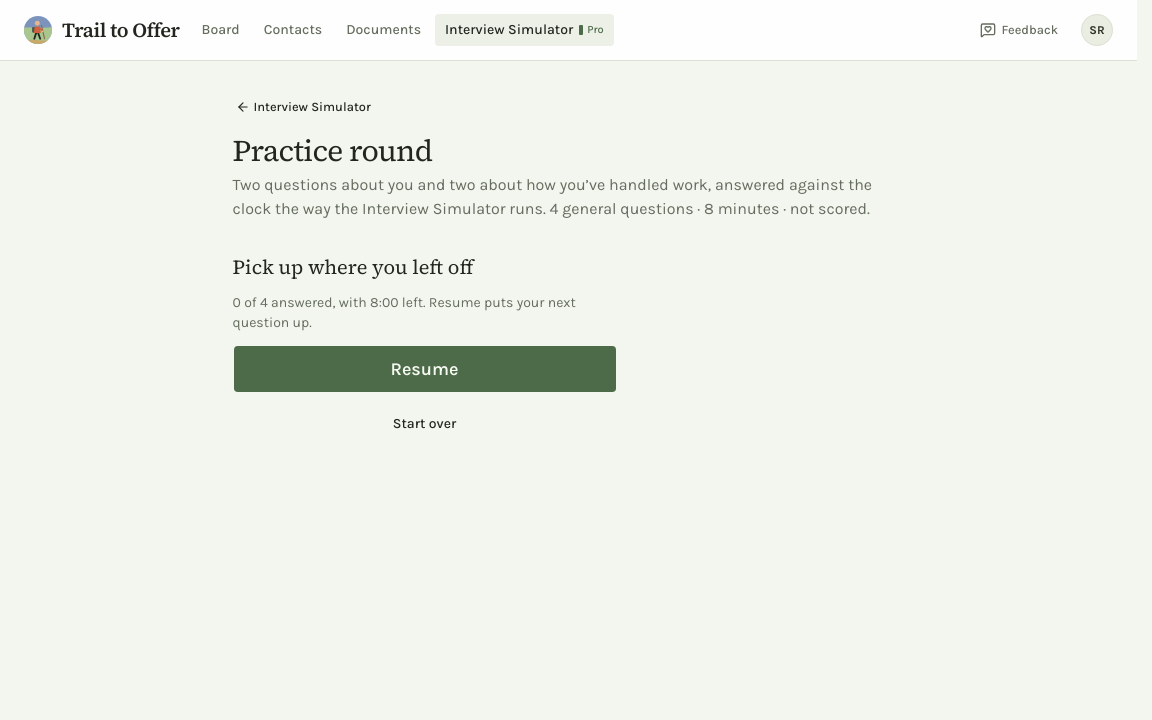
Test: taking a Practice round (practice round ticket 03) › PR-U6c: a microphone that fails mid-round offers leaving, back to where Resume waits (practice feedback ticket 05)
Click the button "Resume" at (424, 369), box [232,345,616,393]
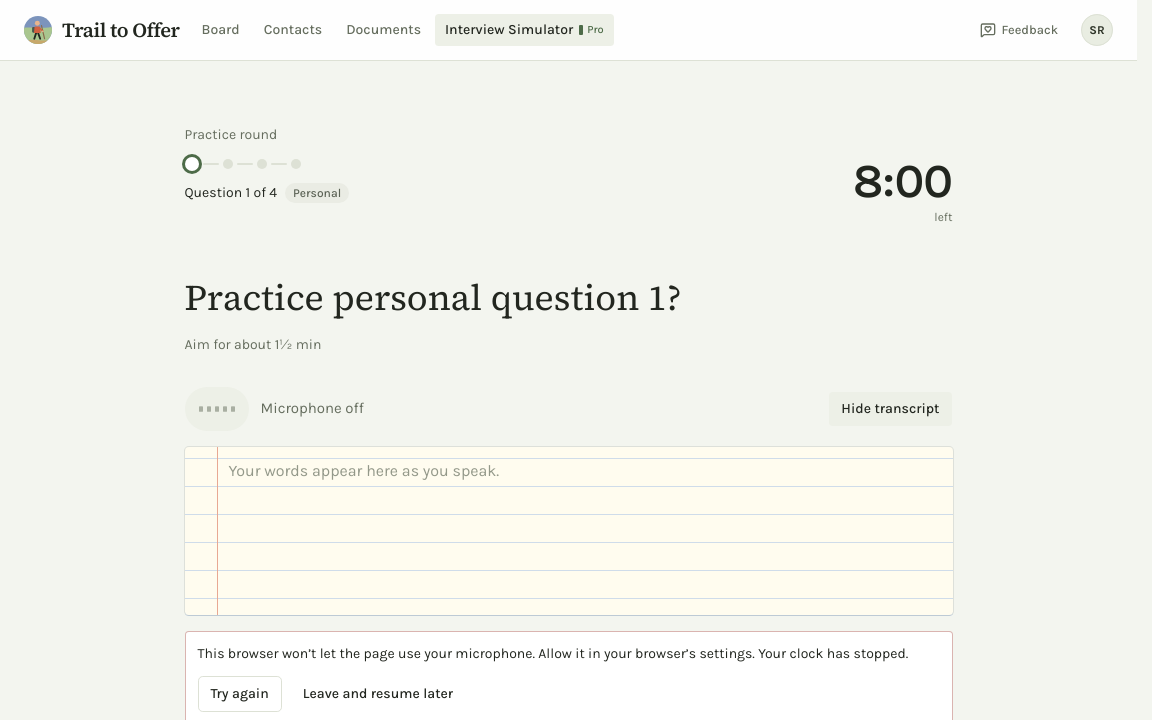
Click the button "Leave and resume later" at (378, 694), box [290,676,466,712]
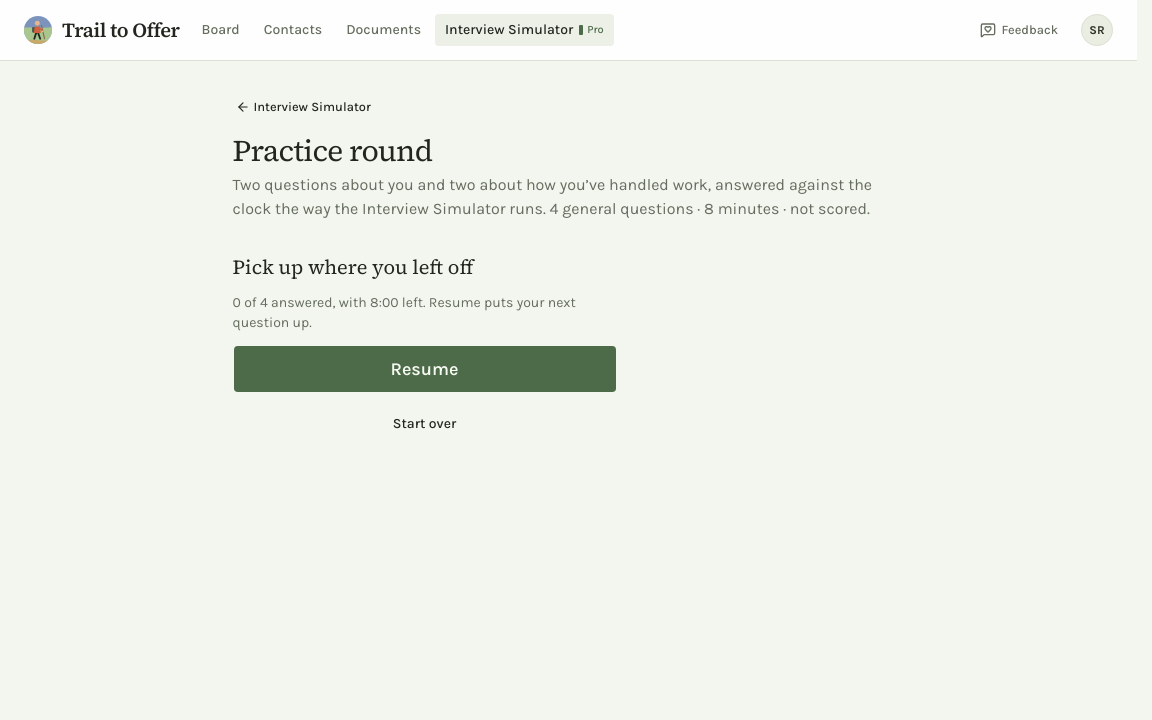
Check: the heading "Pick up where you left off" is shown, box [232,253,473,281]
Check: the button "Resume" is shown, box [232,345,616,393]
